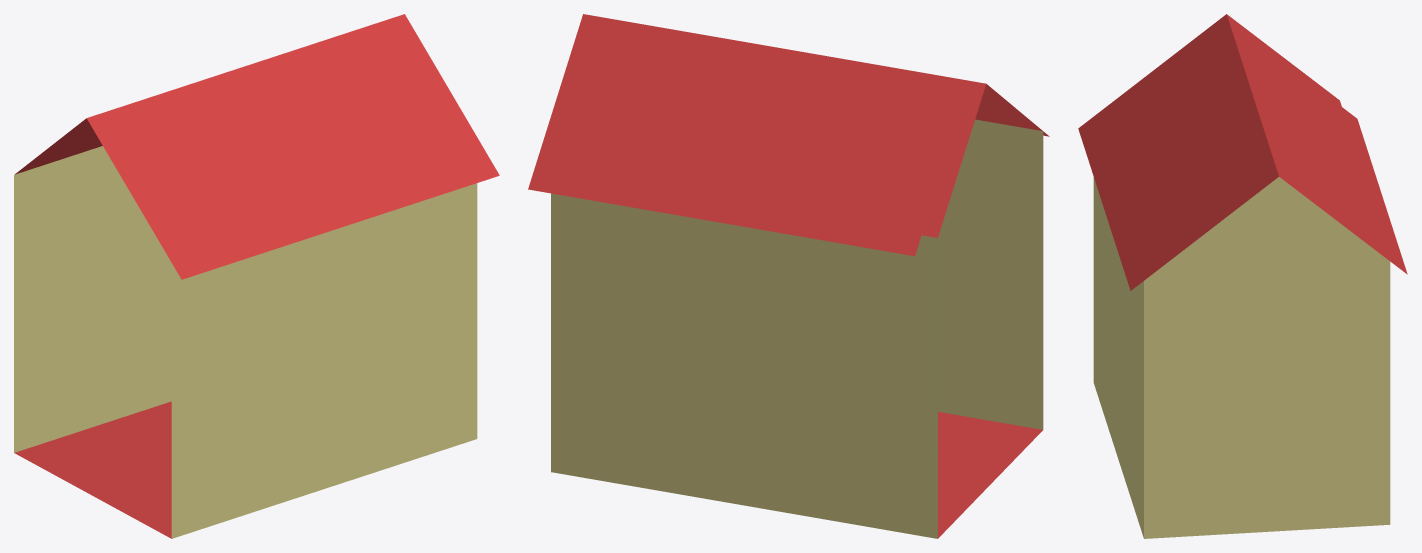
3 views of the same model, side by side, from view 1: azimuth 30°, elevation 25°; view 2: azimuth 150°, elevation 25°; view 3: azimuth 270°, elevation 25° (orthographic). The views are drawn at different scales.
Bounding box in the file's own units: 13.46 × 10.55 × 12.76.
